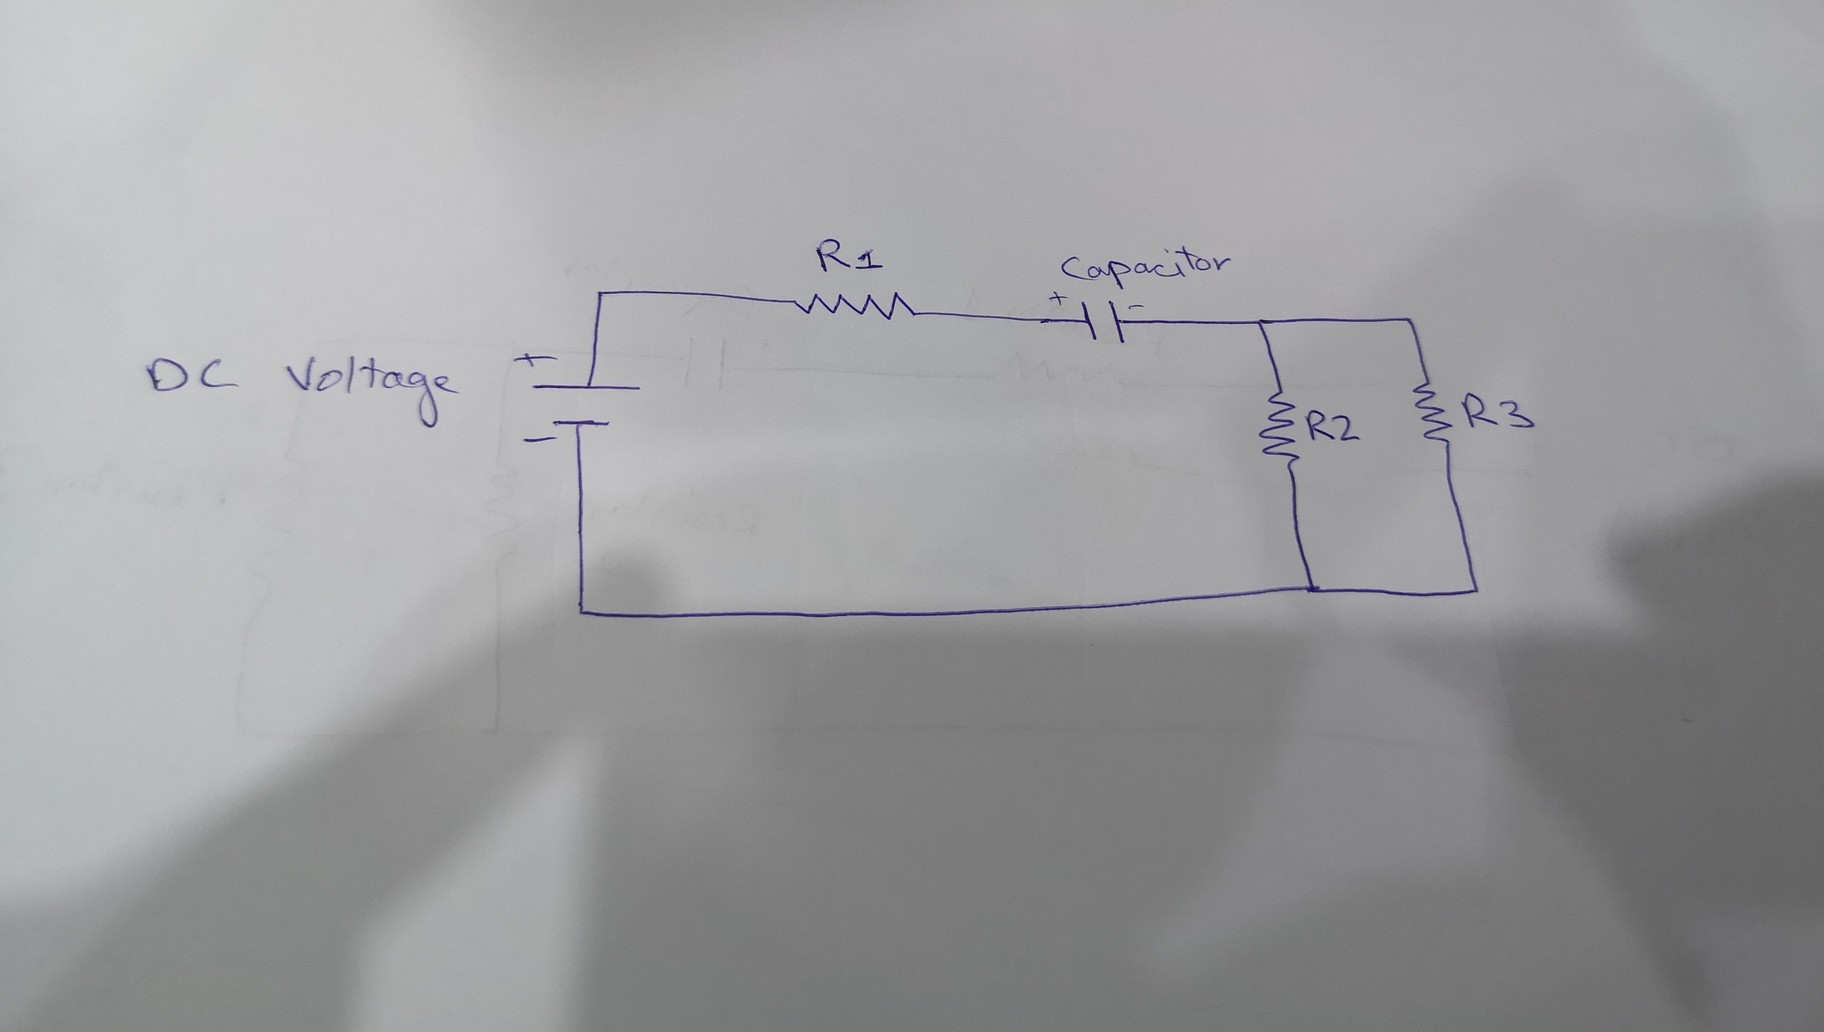capacitor.polarized: (1044, 288, 1153, 348)
junction: (1297, 575, 1330, 604), (569, 594, 599, 624), (1459, 574, 1488, 602), (1248, 312, 1273, 334), (1396, 311, 1422, 331), (588, 284, 611, 306)
resistor: (790, 288, 923, 322), (1257, 384, 1302, 471), (1411, 376, 1452, 450)
text: (142, 351, 464, 436), (1054, 247, 1224, 287), (1458, 390, 1538, 433), (811, 235, 886, 274), (1305, 406, 1362, 445)
voltage.dc: (525, 377, 646, 432)
